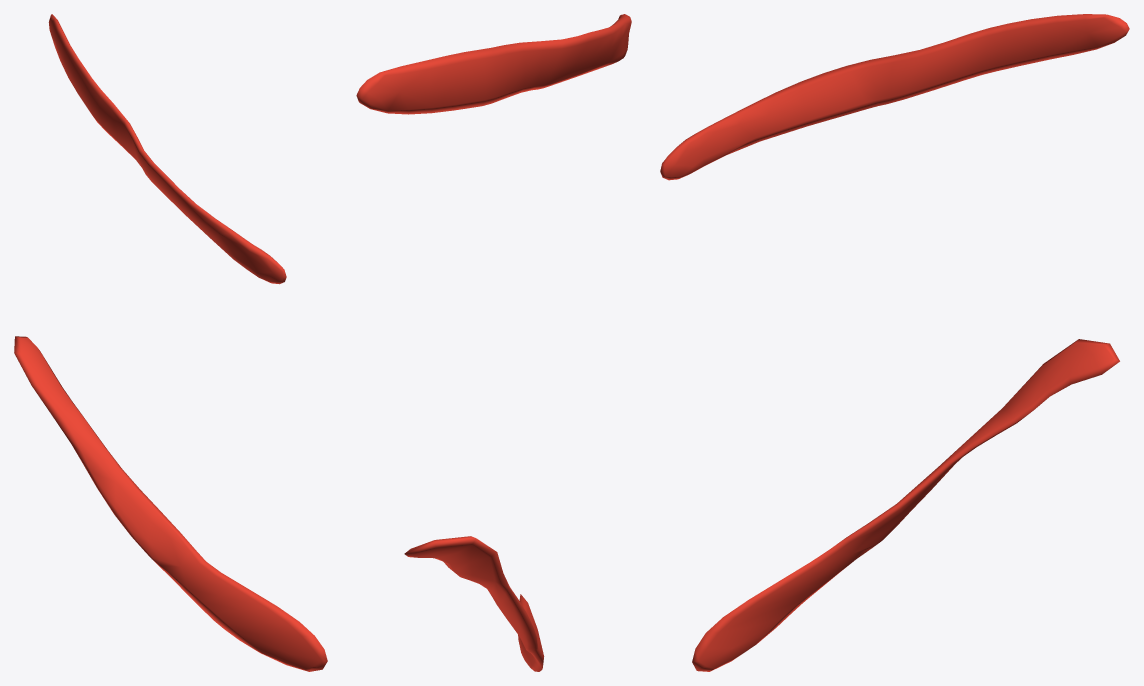
The model's file is Buccinator-_Insertions.r_Generated_Mesh_From_X3D.760.glb.
The picture shows the model from 3 angles, left to right: view 1: azimuth 30°, elevation 25°; view 2: azimuth 150°, elevation 25°; view 3: azimuth 270°, elevation 25°; orthographic projection. The views are drawn at different scales.
Parts seen in each view (by area): view 1: Buccinator-_Insertions.r_Generated_Mesh_From_X3D.760; view 2: Buccinator-_Insertions.r_Generated_Mesh_From_X3D.760; view 3: Buccinator-_Insertions.r_Generated_Mesh_From_X3D.760.
Part boxes in pixels (x1,y1,x2,y2): Buccinator-_Insertions.r_Generated_Mesh_From_X3D.760: (14,14,327,671); Buccinator-_Insertions.r_Generated_Mesh_From_X3D.760: (356,14,631,671); Buccinator-_Insertions.r_Generated_Mesh_From_X3D.760: (660,14,1129,671).
Size of the model in its own units: 0.00873 by 0.032 by 0.0222.
